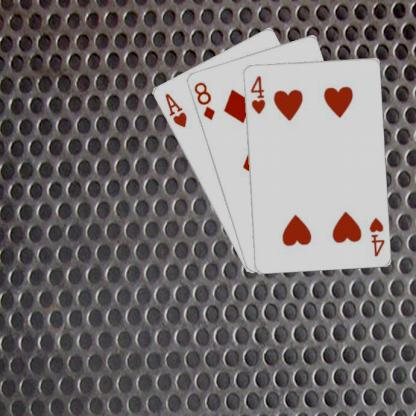4H: (247, 73, 267, 115), (367, 214, 385, 258)
8D: (191, 79, 216, 122)
AH: (162, 90, 188, 129)
